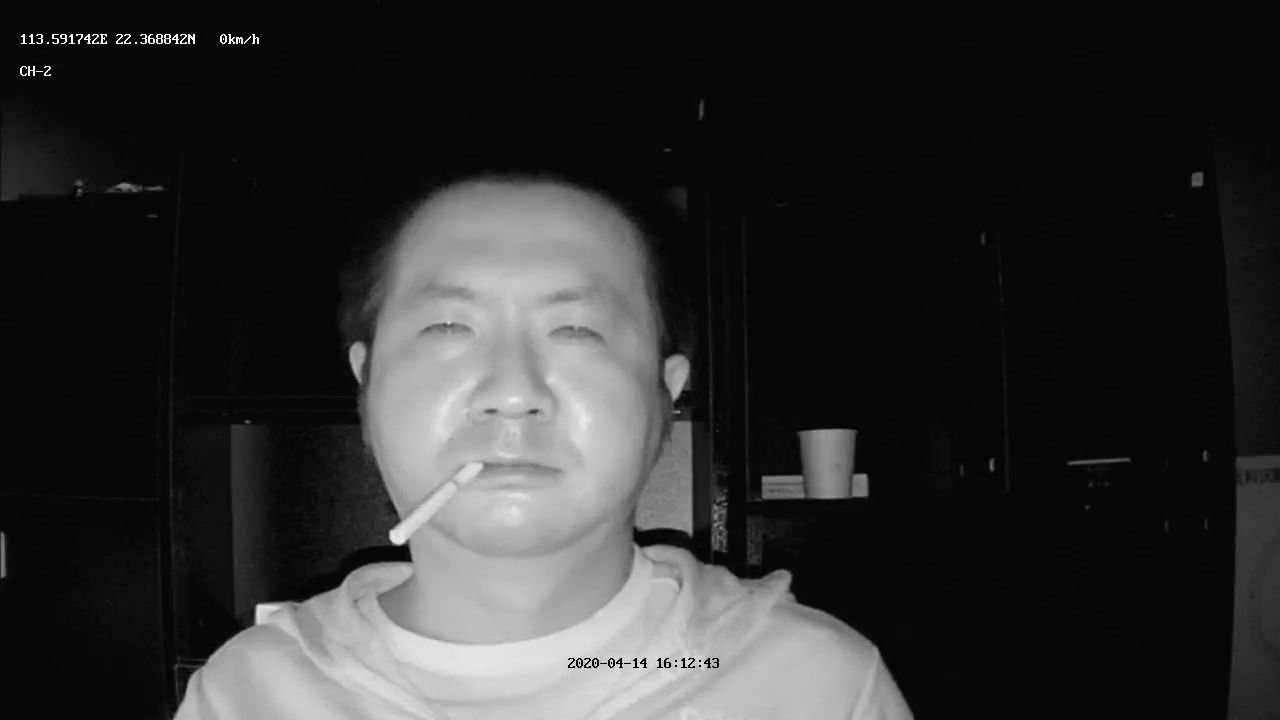smoke: (342, 208, 682, 548)
